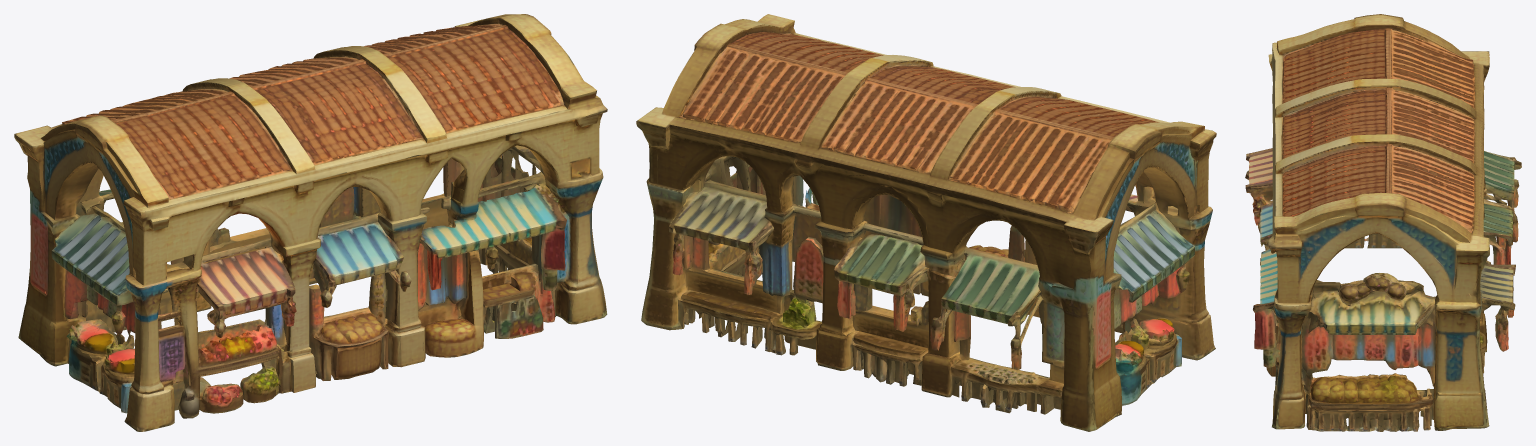
The model's file is market_arcade.glb.
3 views of the same model, side by side, from view 1: azimuth 30°, elevation 25°; view 2: azimuth 150°, elevation 25°; view 3: azimuth 270°, elevation 25° (orthographic). The views are drawn at different scales.
Parts seen in each view (by area): view 1: geometry_0; view 2: geometry_0; view 3: geometry_0.
Boxes of the visible parts, x1,y1,x2,y2 form: geometry_0: (14, 14, 607, 431); geometry_0: (636, 14, 1216, 431); geometry_0: (1245, 14, 1521, 431).
Bounding box in the file's own units: 20 × 10.64 × 11.72.
1 material, 1 textured.
